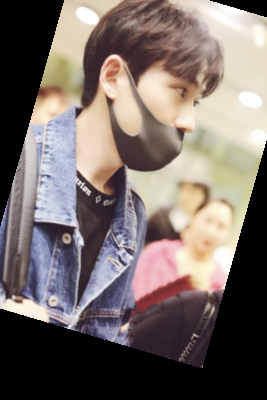mask_weared_incorrect: (76, 2, 235, 173)
